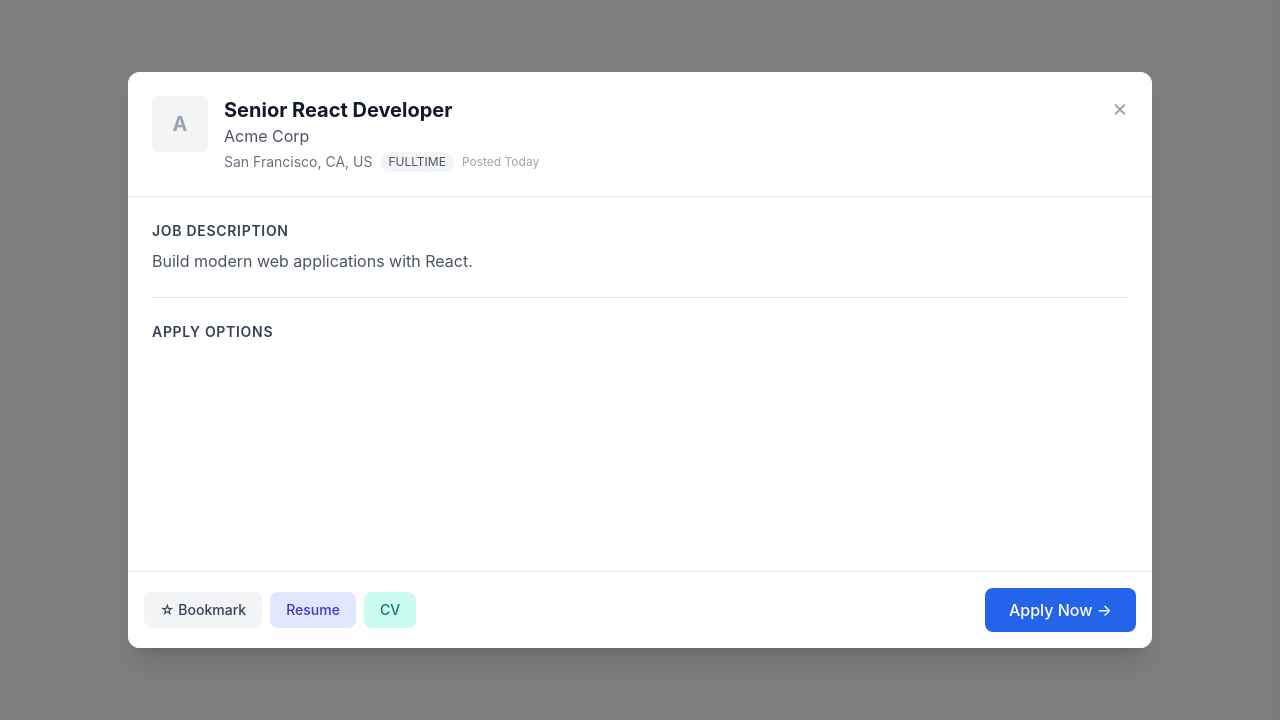
Test: JobDetail › shows Gemini key missing guidance
This screenshot has width=1280, height=720.
Click the button with test id "generate-resume-btn" at (313, 610), box [270,592,356,628]
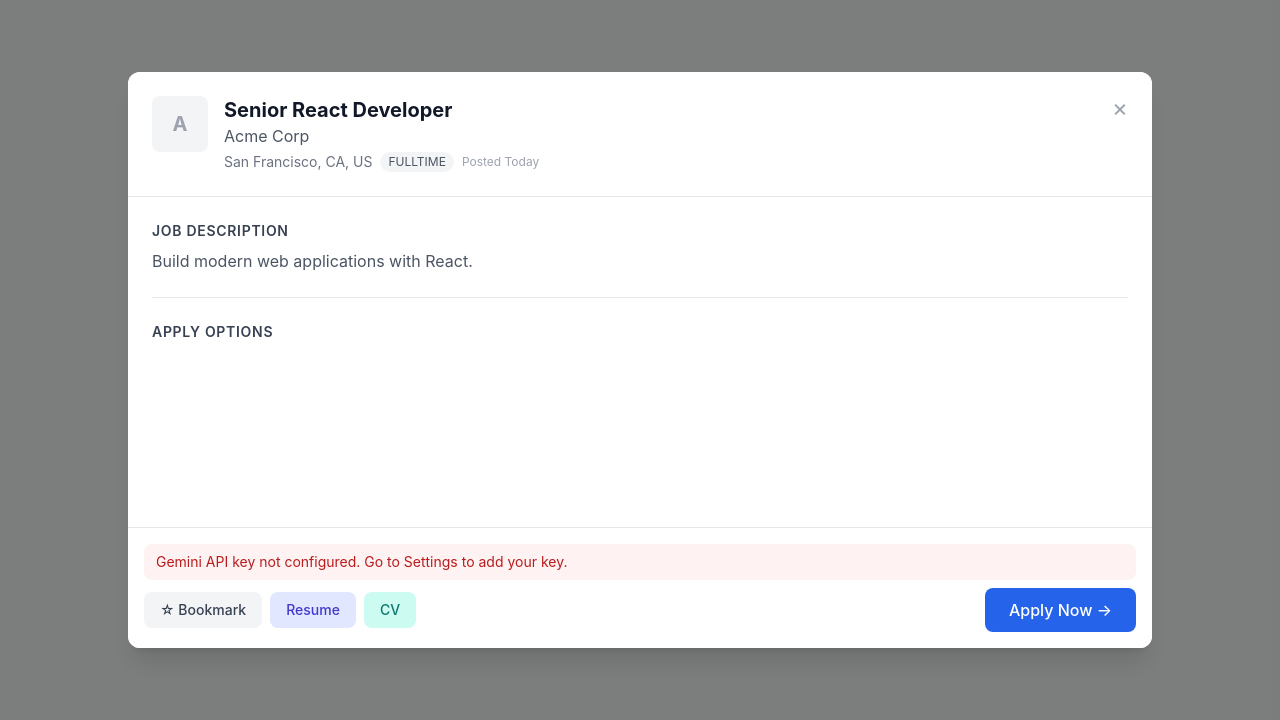
Expected: the text with test id "doc-message" shows "Gemini API key not configured", [156,553,567,570]
